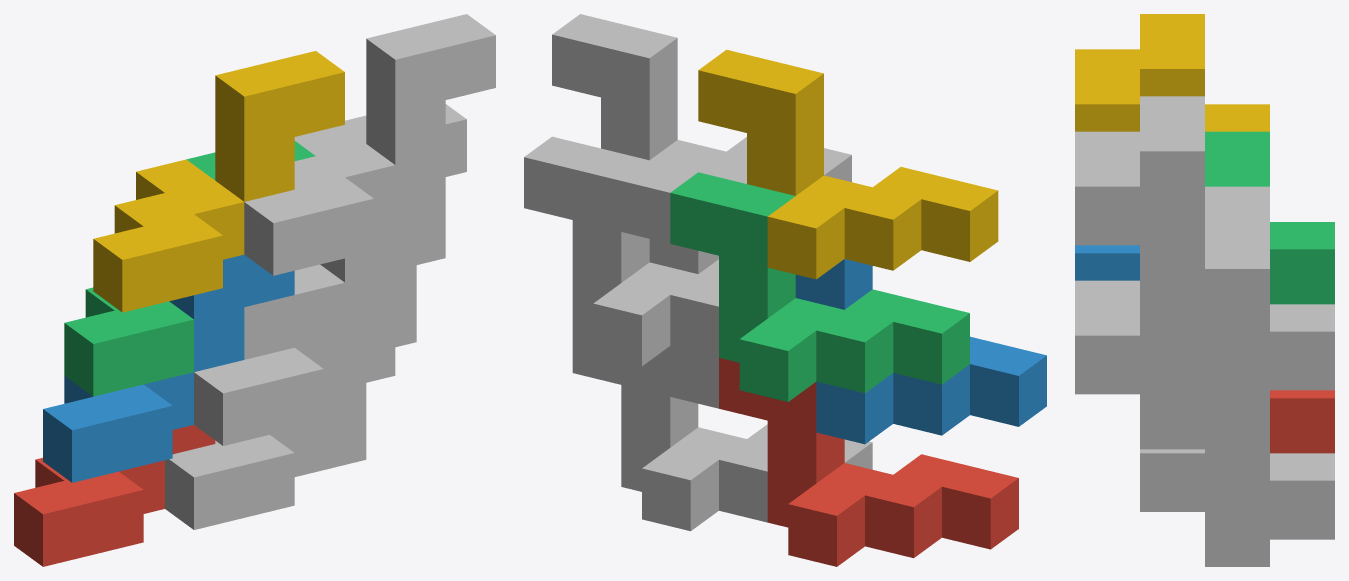
The model's file is tiling.obj.
3 renders of one model, left to right at view 1: azimuth 30°, elevation 25°; view 2: azimuth 150°, elevation 25°; view 3: azimuth 270°, elevation 25°, orthographic. The views are drawn at different scales.
Visible parts, largest first — view 1: copy_1_domain_8, copy_1_domain_4, copy_1_domain_6, copy_1_domain_2, copy_1_domain_5, copy_1_domain_1, copy_1_domain_3, copy_1_domain_7; view 2: copy_1_domain_4, copy_1_domain_3, copy_1_domain_1, copy_1_domain_7, copy_1_domain_8, copy_1_domain_5, copy_1_domain_2, copy_1_domain_6; view 3: copy_1_domain_8, copy_1_domain_5, copy_1_domain_7, copy_1_domain_6, copy_1_domain_4, copy_1_domain_3, copy_1_domain_1, copy_1_domain_2.
Boxes of the visible parts, left/top/right/bottom form: copy_1_domain_8: left=244, top=14, right=495, bottom=275; copy_1_domain_4: left=93, top=51, right=344, bottom=312; copy_1_domain_6: left=194, top=205, right=445, bottom=445; copy_1_domain_2: left=43, top=254, right=294, bottom=482; copy_1_domain_5: left=165, top=289, right=416, bottom=529; copy_1_domain_1: left=14, top=425, right=215, bottom=566; copy_1_domain_3: left=64, top=141, right=315, bottom=396; copy_1_domain_7: left=244, top=104, right=466, bottom=359; copy_1_domain_4: left=698, top=49, right=998, bottom=279; copy_1_domain_3: left=670, top=172, right=969, bottom=401; copy_1_domain_1: left=719, top=358, right=1018, bottom=566; copy_1_domain_7: left=524, top=136, right=718, bottom=366; copy_1_domain_8: left=552, top=14, right=851, bottom=243; copy_1_domain_5: left=572, top=322, right=872, bottom=531; copy_1_domain_2: left=795, top=259, right=1046, bottom=444; copy_1_domain_6: left=649, top=239, right=718, bottom=408; copy_1_domain_8: left=1075, top=96, right=1269, bottom=300; copy_1_domain_5: left=1140, top=418, right=1334, bottom=566; copy_1_domain_7: left=1205, top=214, right=1334, bottom=417; copy_1_domain_6: left=1075, top=280, right=1204, bottom=449; copy_1_domain_4: left=1075, top=14, right=1269, bottom=131; copy_1_domain_3: left=1205, top=131, right=1334, bottom=304; copy_1_domain_1: left=1270, top=390, right=1334, bottom=453; copy_1_domain_2: left=1075, top=245, right=1139, bottom=280.
Bounding box in the file's own units: 9 × 8 × 4.
